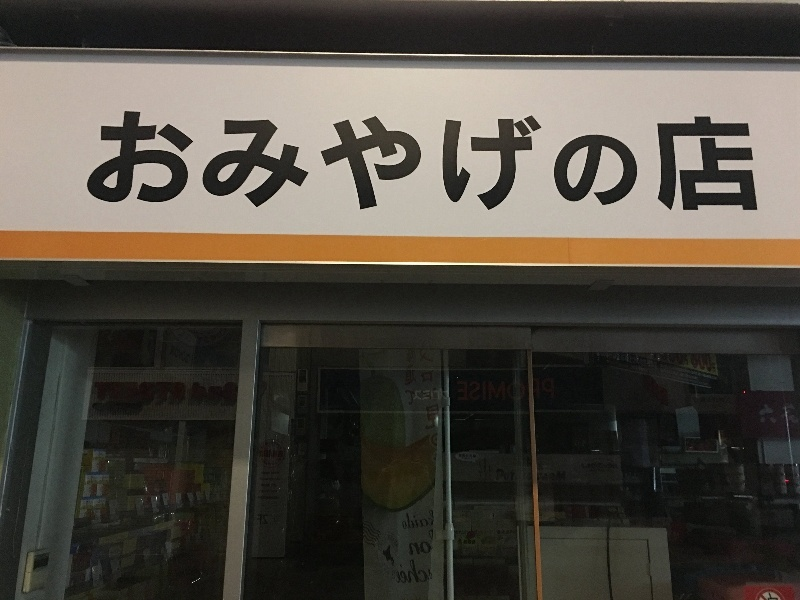text: (97, 108, 112, 218), (113, 108, 128, 218), (129, 108, 144, 218), (145, 108, 160, 218), (161, 108, 176, 218), (177, 108, 192, 218), (193, 108, 208, 218), (209, 108, 224, 218), (225, 108, 240, 218), (241, 108, 256, 218), (257, 108, 272, 218), (273, 108, 288, 218), (289, 108, 304, 218), (305, 108, 320, 218), (321, 108, 336, 218), (337, 108, 352, 218), (353, 108, 368, 218), (369, 108, 384, 218), (385, 108, 400, 218), (401, 108, 416, 218), (417, 108, 432, 218), (433, 108, 448, 218), (449, 108, 464, 218), (465, 108, 480, 218), (481, 108, 496, 218), (497, 108, 512, 218), (513, 108, 528, 218), (529, 108, 544, 218), (545, 108, 560, 218), (561, 108, 576, 218), (577, 108, 592, 218), (593, 108, 608, 218), (609, 108, 624, 218), (625, 108, 640, 218), (641, 108, 656, 218), (657, 108, 672, 218), (673, 108, 688, 218), (689, 108, 704, 218), (705, 108, 720, 218), (721, 108, 736, 218), (737, 108, 752, 218), (753, 108, 761, 218), (418, 348, 432, 385), (401, 557, 416, 587), (92, 108, 96, 218), (465, 375, 480, 404), (481, 375, 496, 404), (497, 375, 512, 404), (513, 375, 528, 404), (529, 375, 544, 404), (405, 348, 416, 387), (769, 401, 784, 426), (785, 401, 800, 426), (417, 557, 429, 587), (193, 382, 208, 405), (209, 382, 224, 405), (225, 382, 240, 405), (417, 539, 433, 559), (545, 375, 556, 404), (97, 382, 112, 403), (113, 382, 128, 403), (129, 382, 144, 403), (145, 382, 160, 403), (161, 382, 176, 403), (433, 403, 443, 433), (402, 512, 416, 533), (417, 512, 430, 533), (673, 363, 688, 381), (689, 363, 704, 381), (758, 401, 768, 426), (691, 353, 704, 372), (705, 363, 718, 381), (660, 363, 672, 381), (417, 388, 432, 402), (433, 388, 448, 402), (425, 403, 432, 433), (497, 469, 512, 483), (641, 354, 656, 368), (457, 375, 464, 404), (177, 382, 186, 403), (407, 539, 416, 559), (257, 513, 270, 525), (629, 354, 640, 368), (705, 353, 713, 372), (395, 557, 400, 587), (433, 348, 437, 385), (705, 396, 720, 405), (593, 462, 608, 470), (711, 361, 720, 374), (259, 450, 272, 459), (721, 396, 733, 405), (273, 450, 285, 459), (465, 452, 478, 459), (259, 476, 272, 483), (581, 462, 592, 470), (609, 462, 619, 470), (257, 495, 272, 500), (260, 482, 272, 488), (273, 476, 283, 483), (258, 489, 272, 494), (259, 470, 272, 475), (683, 354, 688, 366), (561, 471, 566, 483), (698, 396, 704, 405), (556, 471, 560, 483), (273, 482, 281, 488), (413, 388, 416, 402), (513, 469, 516, 483), (94, 382, 96, 403), (273, 470, 281, 475), (459, 452, 464, 459), (273, 489, 280, 494), (273, 495, 280, 500), (449, 388, 450, 402), (657, 354, 658, 368)
